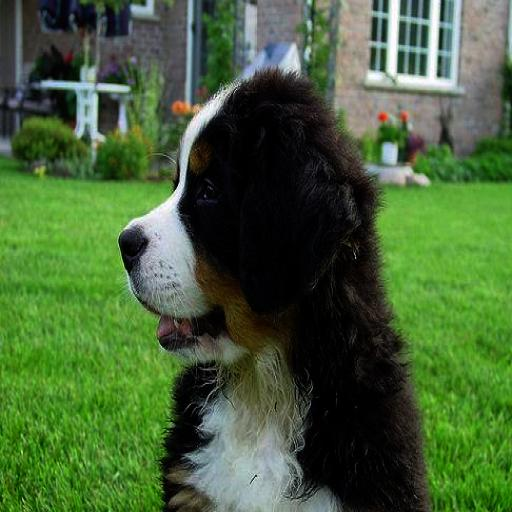dog_face: (114, 89, 328, 354)
